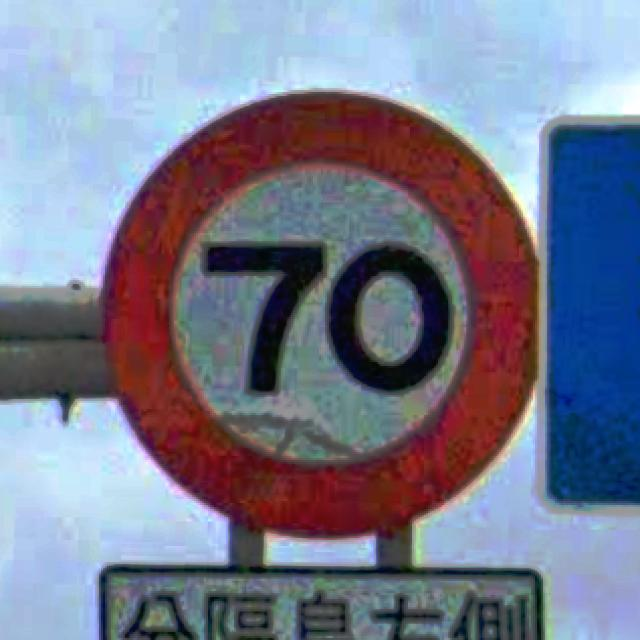max70: (97, 86, 541, 538)
